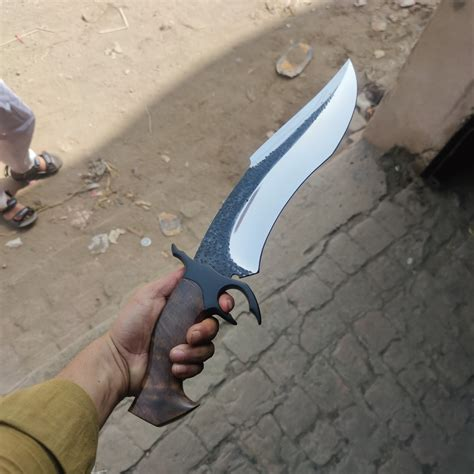knife: (123, 59, 359, 426)
